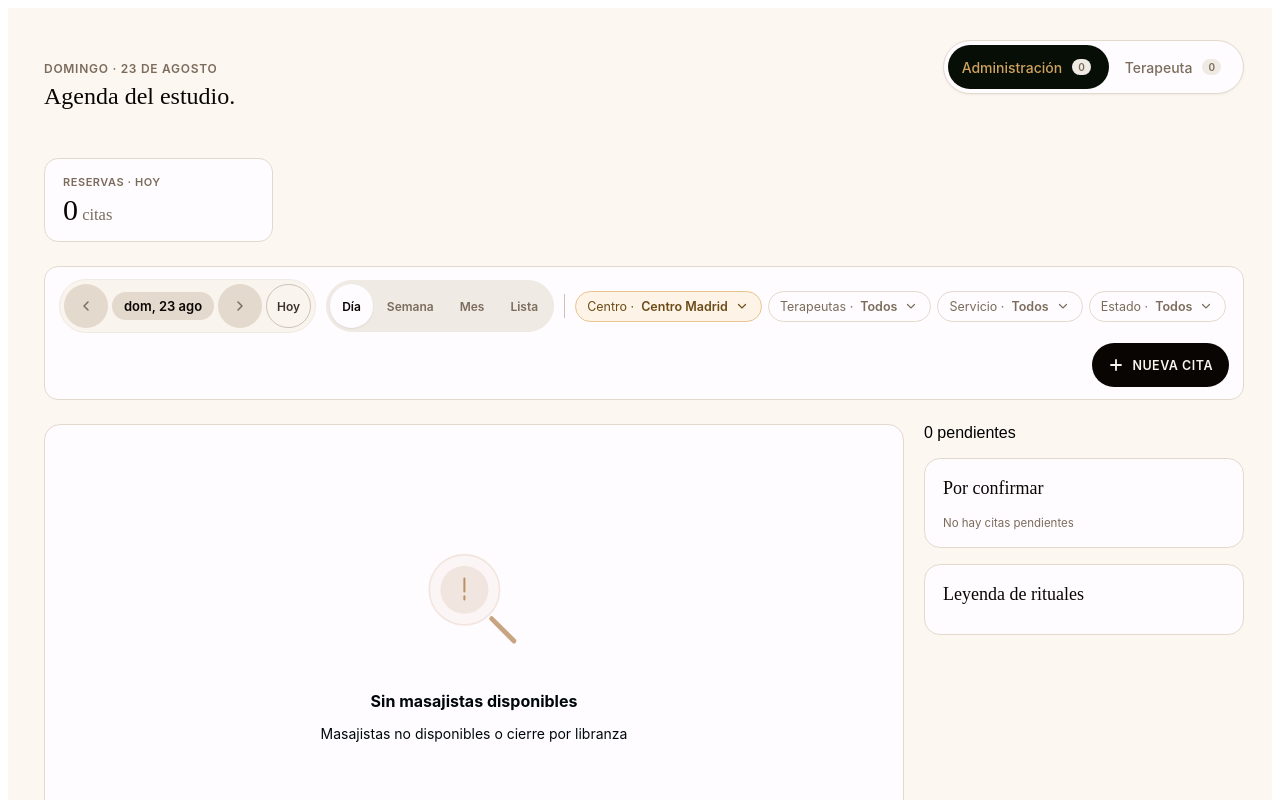
Test: AgendaPage — view switching › switches to therapist view when the therapist tab is clicked
Expected: the heading "Agenda del estudio." is shown, [44, 82, 235, 110]
Click the button "Terapeuta 0": (1175, 67) [1111, 45, 1239, 89]
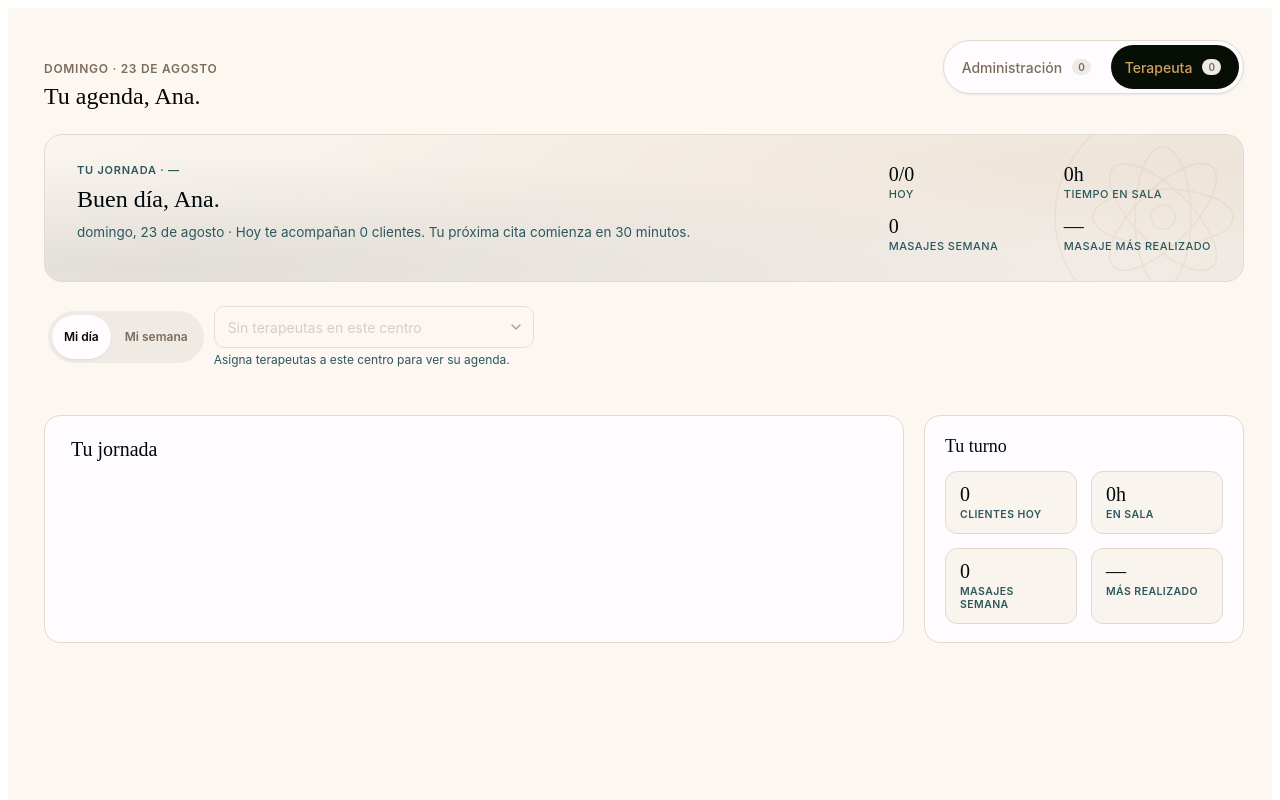
Expected: the heading "Buen día, Ana." is shown, [77, 186, 220, 212]
